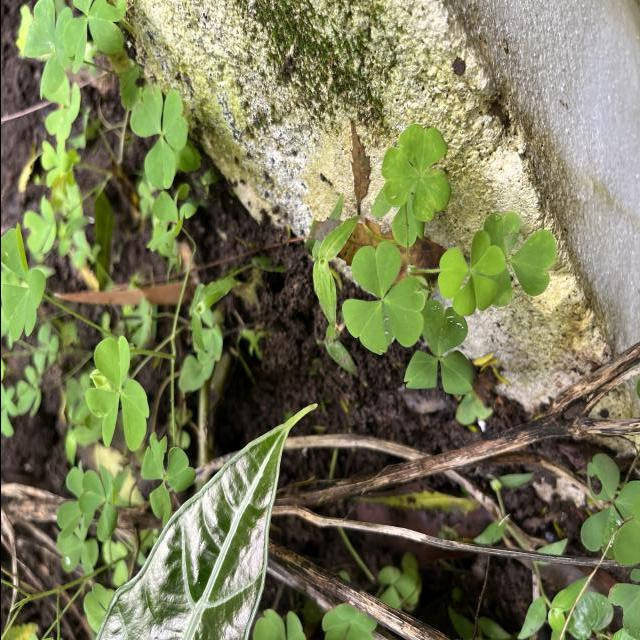Oxalis corniculata: (340, 240, 425, 357), (83, 334, 149, 452), (379, 122, 451, 224), (402, 298, 474, 396), (128, 83, 189, 192), (436, 228, 506, 318), (0, 222, 46, 342)
